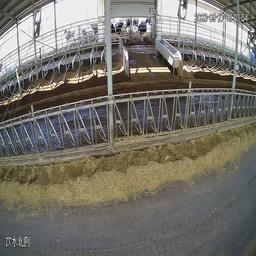cow: (110, 19, 129, 43), (137, 18, 148, 42)
